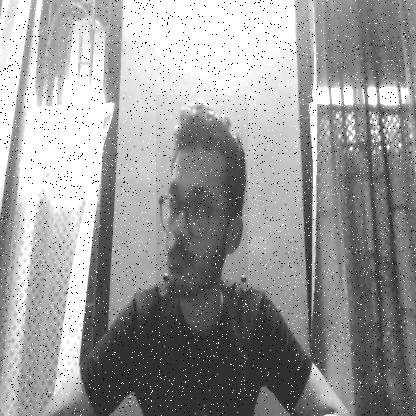Distracted: (156, 95, 248, 289)
